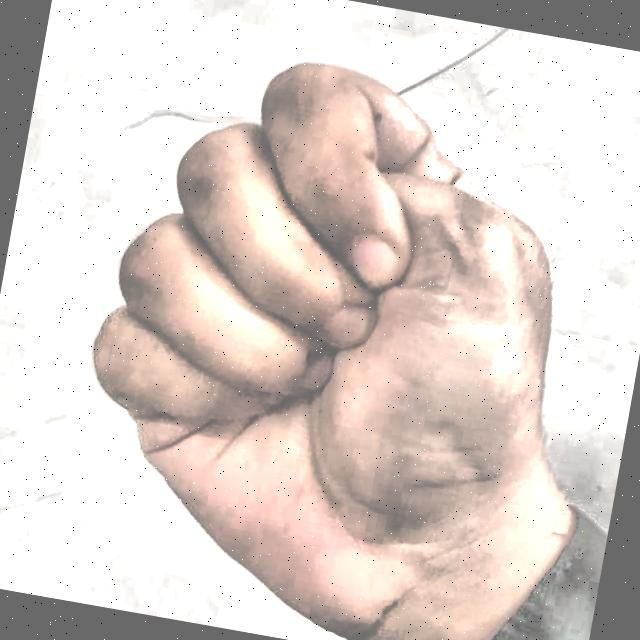To: (23, 4, 623, 640)
